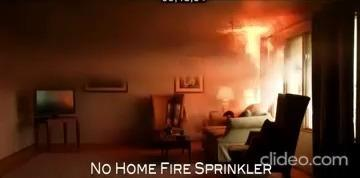fire: (229, 24, 261, 72), (242, 83, 260, 104), (261, 24, 274, 37)
